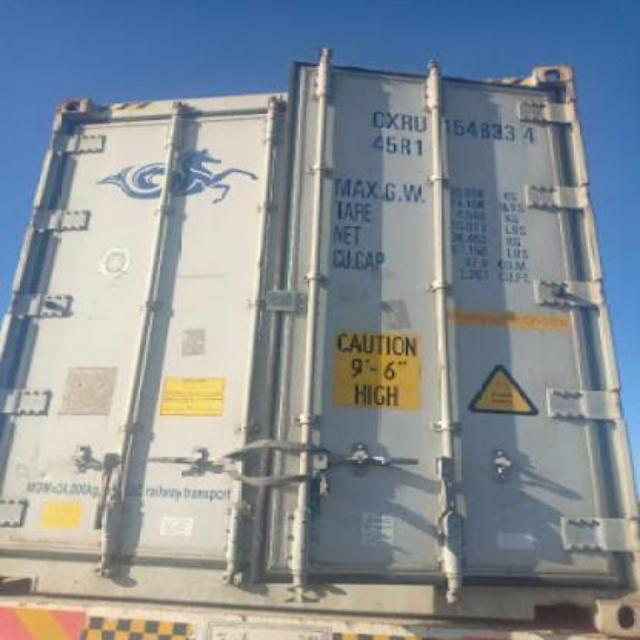1: (442, 117, 452, 137)
3: (504, 122, 518, 146), (491, 121, 504, 142)
4: (520, 122, 538, 146), (466, 118, 478, 138)
5: (452, 116, 466, 140)
8: (476, 118, 494, 142)
C: (372, 108, 388, 132)
R: (402, 112, 414, 134)
U: (414, 112, 430, 136)
X: (386, 110, 402, 132)
